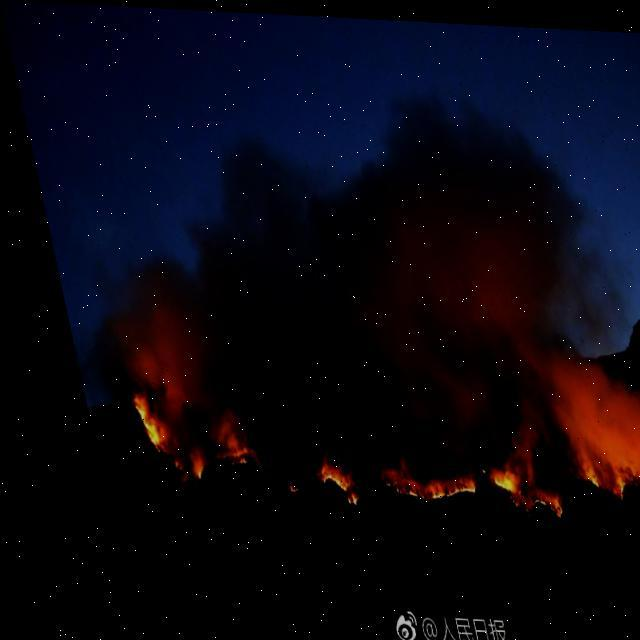Fire: (544, 419, 639, 490), (361, 451, 458, 503), (165, 428, 245, 484), (467, 456, 541, 516), (111, 391, 156, 454), (295, 454, 337, 502)
